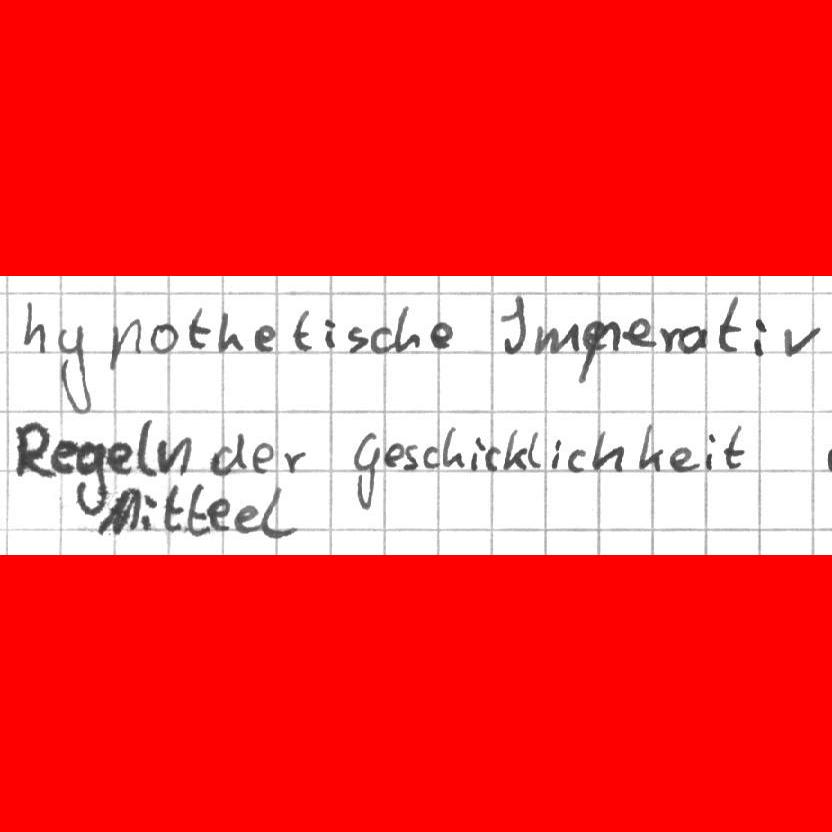Char: (56, 325, 90, 415), (73, 437, 107, 518), (13, 418, 53, 481), (351, 434, 382, 509), (576, 324, 618, 378), (259, 486, 301, 540), (99, 488, 142, 538), (107, 318, 143, 373), (207, 430, 248, 477), (498, 292, 528, 354), (590, 427, 628, 474), (533, 320, 576, 360), (156, 432, 192, 477), (718, 294, 743, 355), (186, 478, 210, 540), (20, 299, 47, 354), (636, 423, 664, 475), (782, 322, 821, 359), (393, 303, 421, 354), (216, 308, 245, 354), (721, 421, 746, 471), (504, 426, 529, 473), (136, 416, 155, 475), (442, 423, 465, 470), (149, 320, 178, 356), (164, 482, 184, 534), (186, 305, 208, 351), (107, 438, 133, 476), (291, 307, 312, 352), (625, 315, 651, 351), (232, 500, 258, 535), (681, 322, 707, 356), (207, 496, 229, 534), (750, 315, 769, 359), (253, 322, 277, 356), (428, 318, 454, 349), (53, 438, 76, 473), (252, 441, 276, 473), (670, 445, 698, 472), (281, 447, 307, 475), (527, 428, 544, 469), (659, 323, 680, 355), (384, 441, 406, 470), (346, 326, 368, 354), (321, 316, 338, 351), (142, 493, 158, 530), (370, 326, 391, 354), (566, 447, 587, 475), (469, 434, 484, 472), (704, 433, 718, 473), (402, 442, 420, 472), (549, 438, 564, 472), (485, 445, 502, 472), (422, 443, 439, 470), (823, 439, 832, 476)
